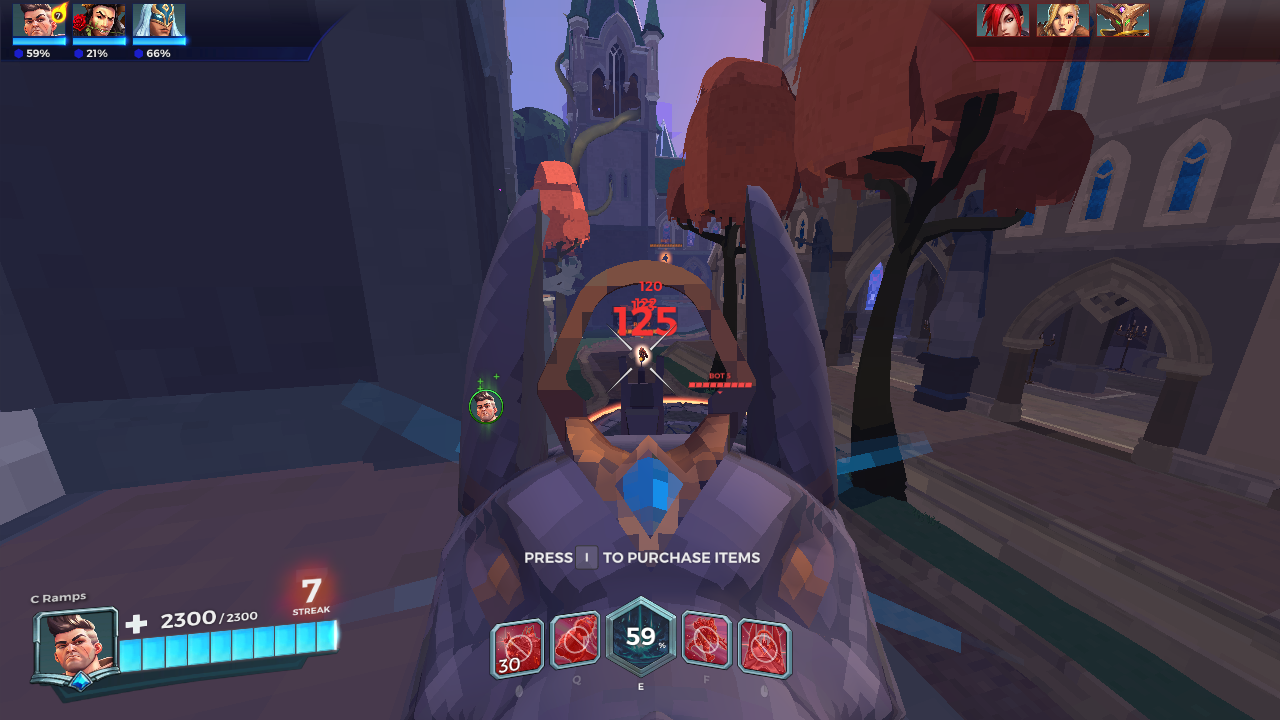model: (630, 340, 656, 366)
